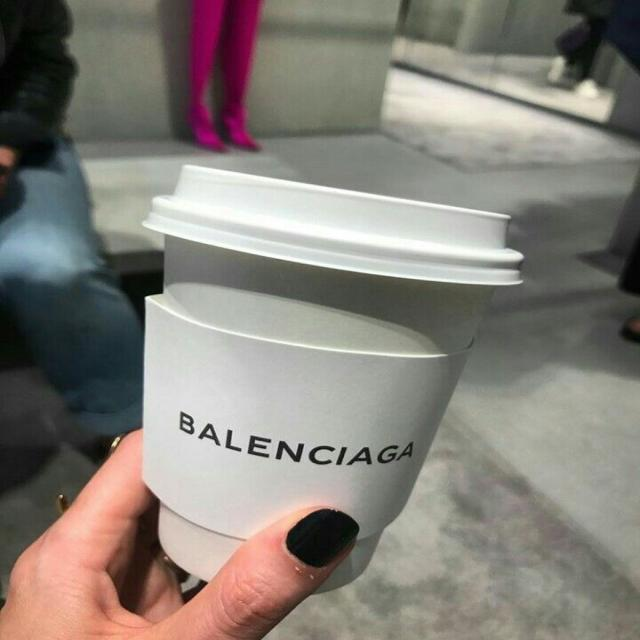paper cup: (141, 164, 525, 595)
